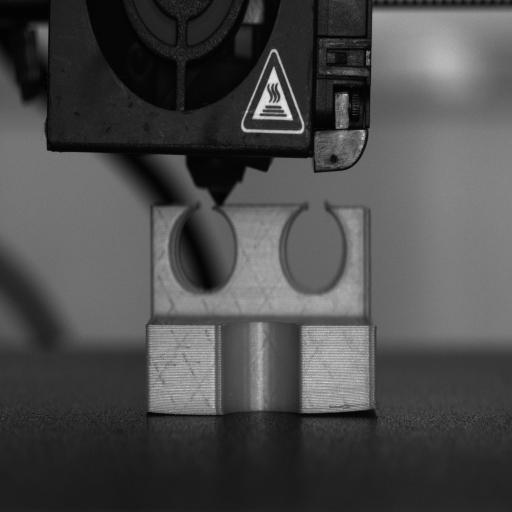warp: (296, 398, 382, 426), (146, 406, 173, 420)
